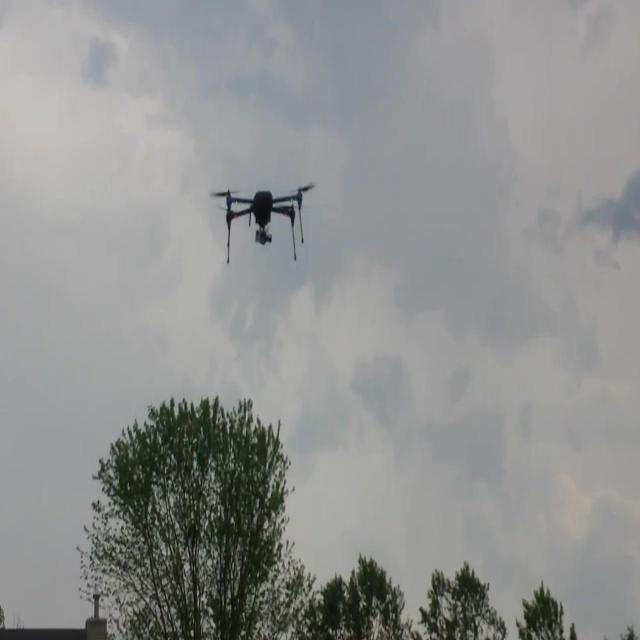UAV: (209, 181, 317, 265)
